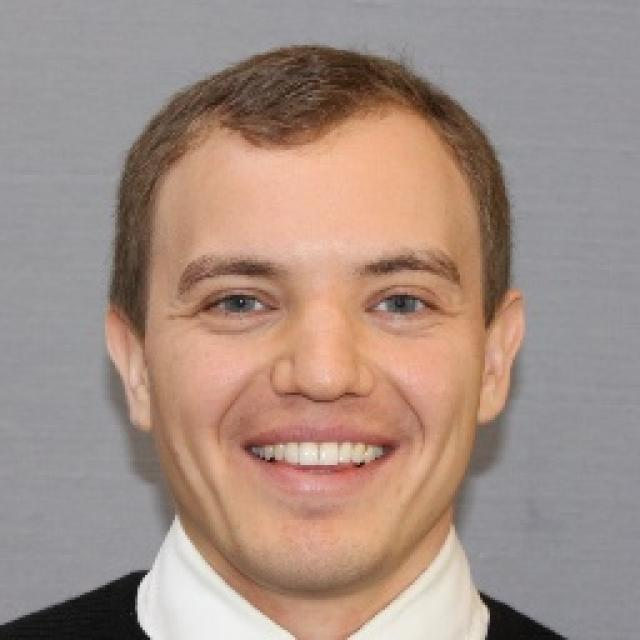earlobe: (126, 388, 154, 434), (478, 384, 508, 425)
eye: (367, 288, 442, 318), (197, 290, 279, 316)
nose: (270, 389, 372, 423)
wholeear: (103, 303, 155, 435), (477, 290, 526, 425)
